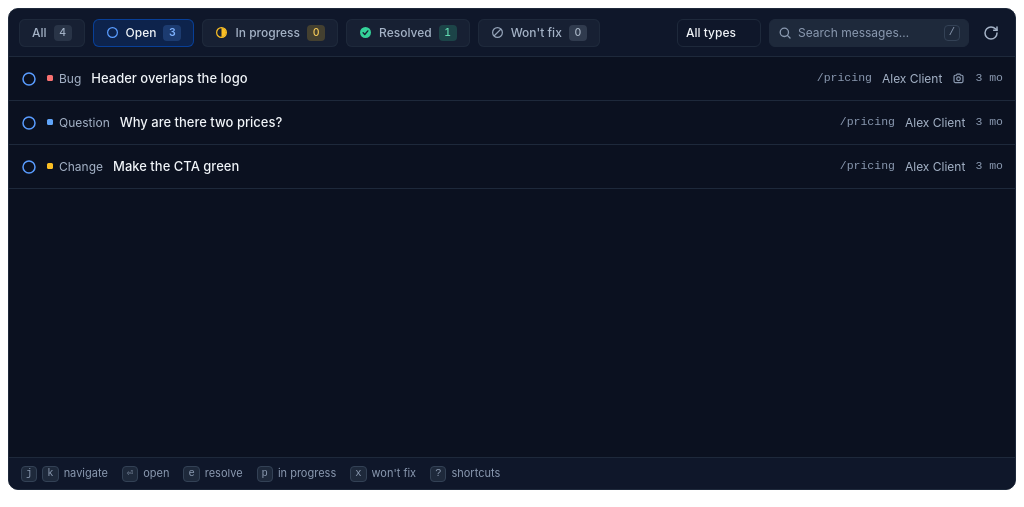
Scenario: InstaFixInbox — search & live regions › shows a clear button once the search has text and clearing it empties the field
The width and height of the screenshot is (1024, 507).
Type "header" into the search field with class "ifd-search-input".
click(868, 32); type("header")  # box [798,20,938,46]
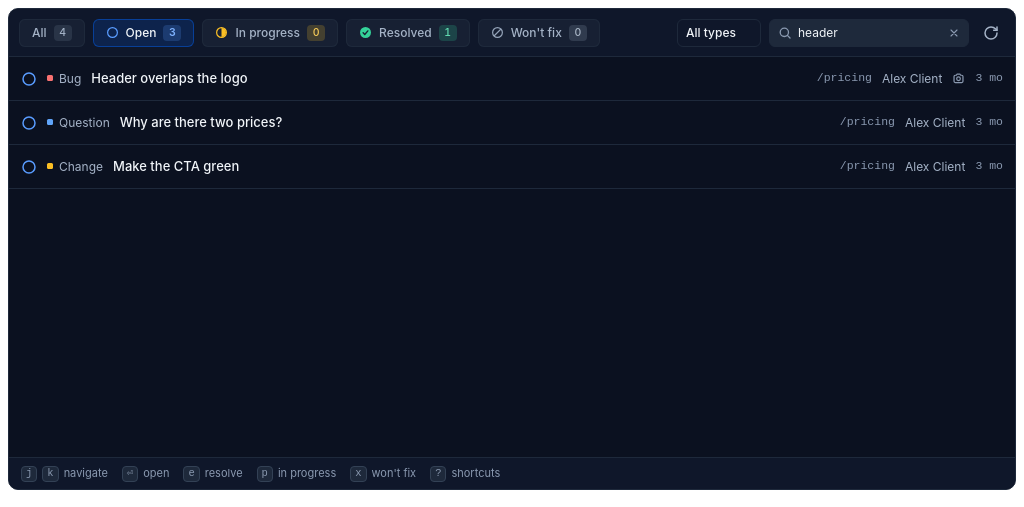
Click the button named "Clear search".
click(954, 32)  # box [948,26,960,38]
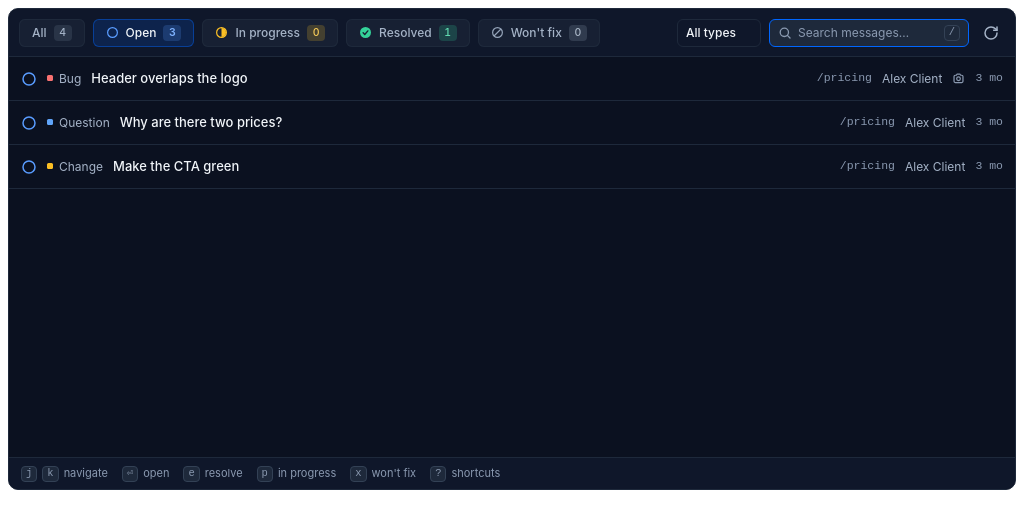
Check: the search field with class "ifd-search-input" is empty, box [798,20,938,46]
